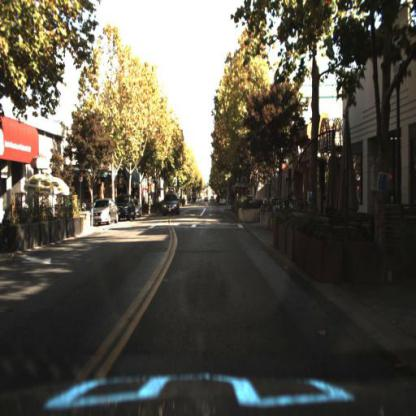car: (92, 199, 121, 228), (92, 200, 122, 225), (116, 195, 137, 224), (160, 193, 181, 218), (119, 197, 136, 219), (165, 193, 179, 214)
